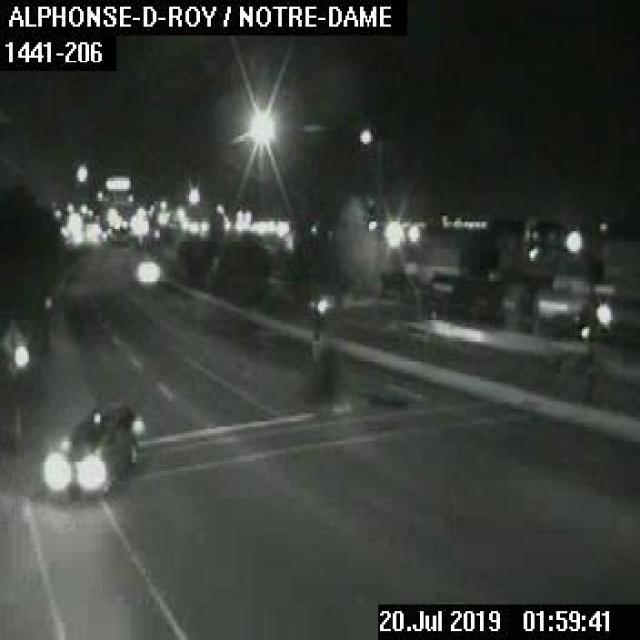vehicle: (49, 405, 140, 491)
